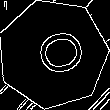O_W: (22, 26, 84, 82)
